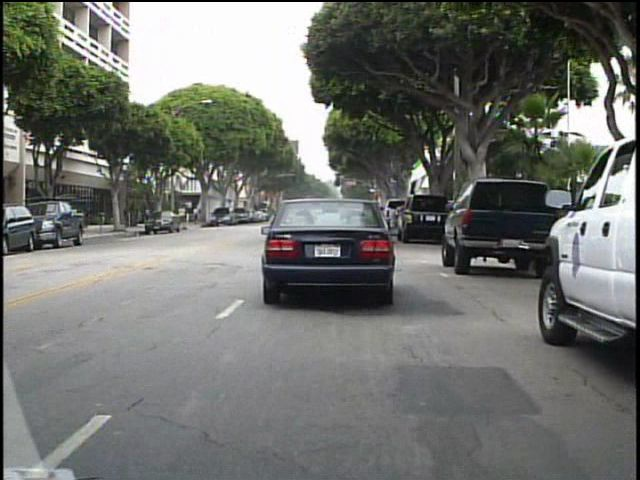person: (177, 202, 190, 227), (192, 202, 202, 226)
